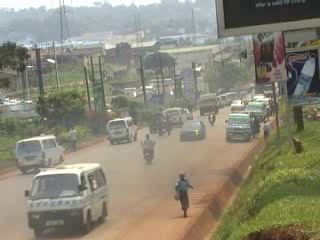Car: (179, 119, 209, 143), (146, 111, 173, 136), (229, 97, 246, 111)
Motorcycle: (136, 134, 157, 166), (206, 109, 216, 126)
